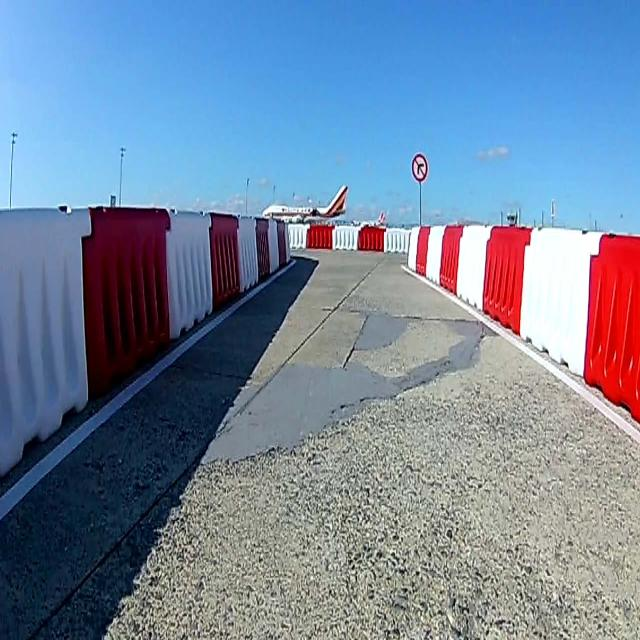sagadonulmez: (412, 155, 428, 182)
